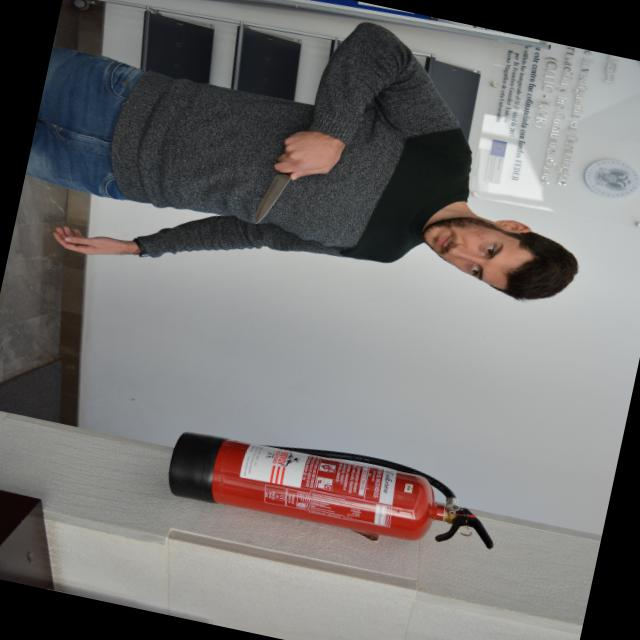knife: (246, 155, 306, 235)
